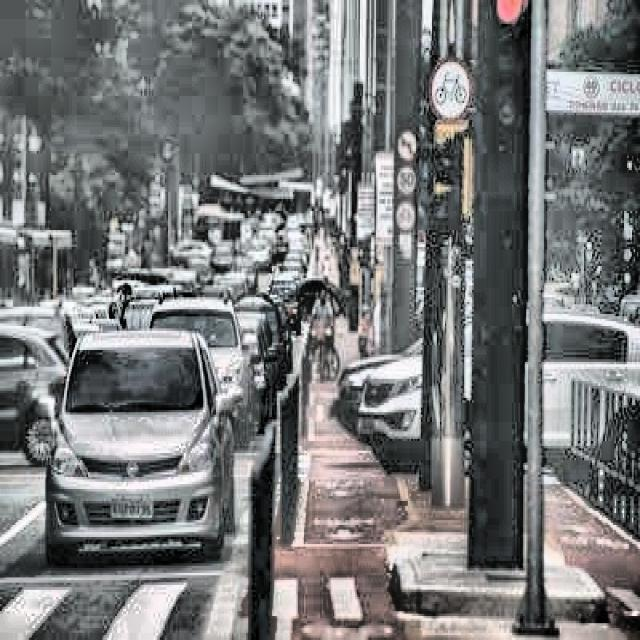license_plate: (109, 491, 155, 519)
